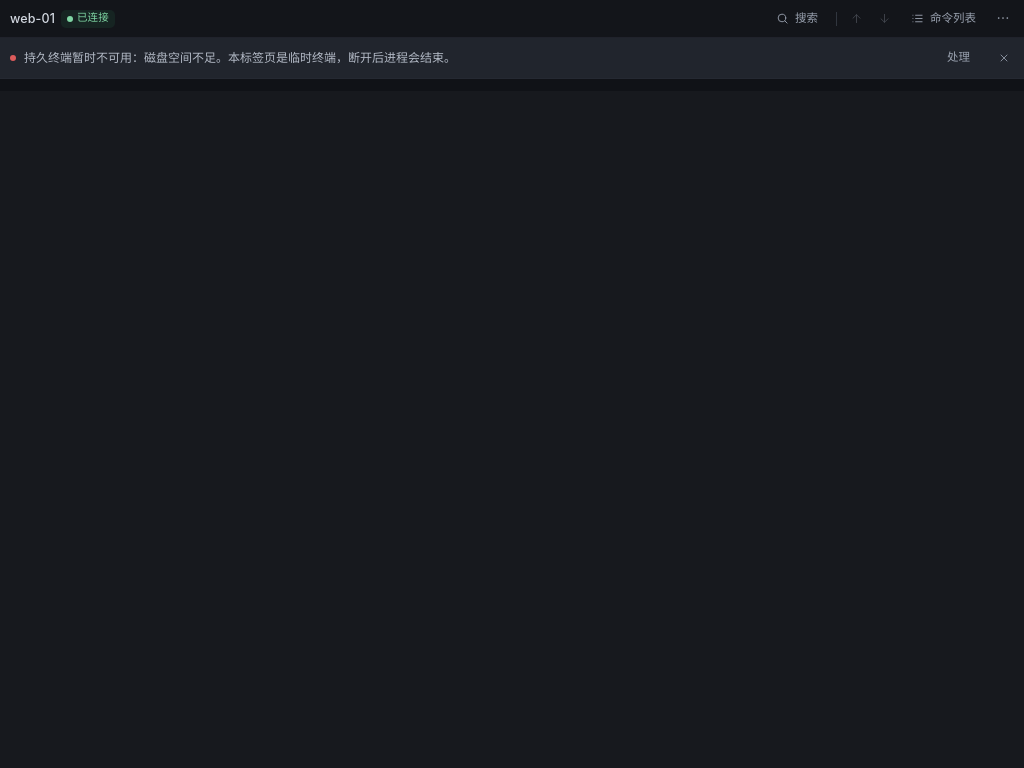
Test case: persistence hint bar › asks for attention when the helper deployment needs a choice, without a duplicate toast
The image size is (1024, 768).
Expected: the message with test id "persistence-hint" shows "持久终端暂时不可用：磁盘空间不足", [24,50,456,65]
Click the button "处理": (958,58) [937,45,980,71]
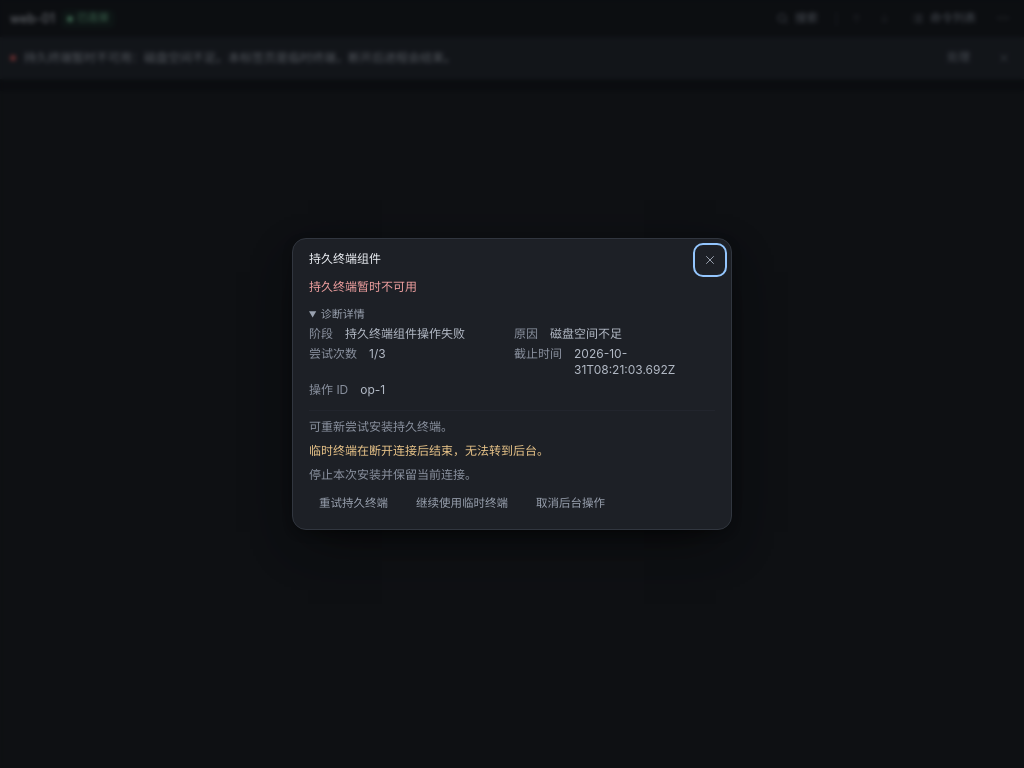
Expected: the dialog named "持久终端组件" is shown, [292,238,732,530]
